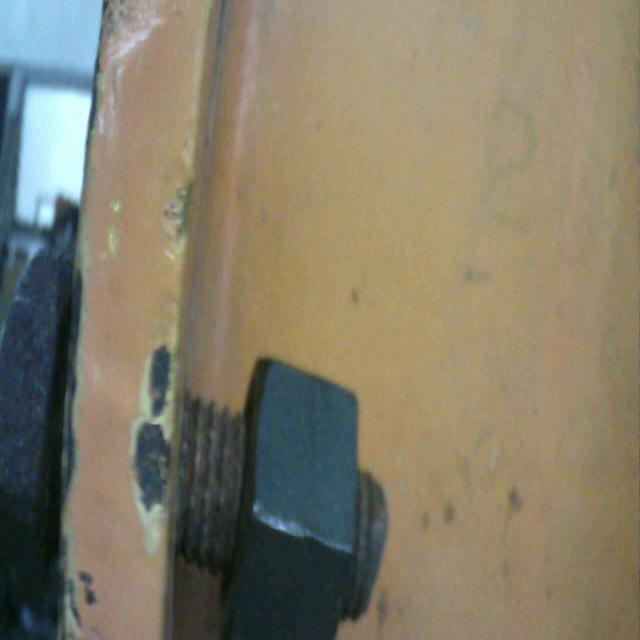Loose bolt: (187, 353, 404, 640)
Rusty bolt: (176, 394, 399, 632), (1, 254, 72, 586)
